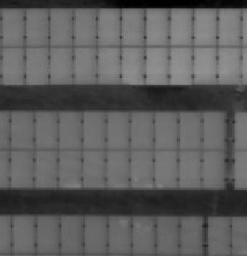solar: (9, 214, 39, 256), (33, 214, 63, 256), (57, 214, 87, 256), (81, 214, 111, 256), (105, 214, 135, 256), (129, 214, 159, 256), (153, 214, 183, 256), (175, 214, 205, 256), (205, 214, 235, 256), (22, 6, 52, 47), (46, 6, 76, 47), (69, 6, 99, 47), (93, 6, 123, 47), (118, 6, 148, 47), (143, 6, 173, 47), (166, 6, 196, 47), (190, 6, 220, 47), (215, 6, 245, 47), (214, 44, 244, 85), (190, 44, 220, 85), (166, 44, 196, 85), (142, 44, 172, 85), (117, 44, 147, 85), (94, 44, 124, 85), (71, 44, 101, 85), (46, 44, 76, 85), (22, 44, 52, 85), (7, 108, 37, 149), (55, 110, 85, 151), (79, 109, 109, 150), (104, 109, 134, 150), (127, 110, 157, 151), (153, 110, 183, 151), (176, 110, 206, 151), (200, 110, 230, 151), (200, 149, 230, 190), (175, 149, 205, 190), (150, 149, 180, 190), (127, 149, 157, 190), (103, 149, 133, 190), (79, 149, 109, 190), (55, 149, 85, 190), (32, 149, 62, 190), (7, 149, 37, 190), (31, 109, 61, 150), (1, 44, 30, 85), (1, 6, 30, 47)
